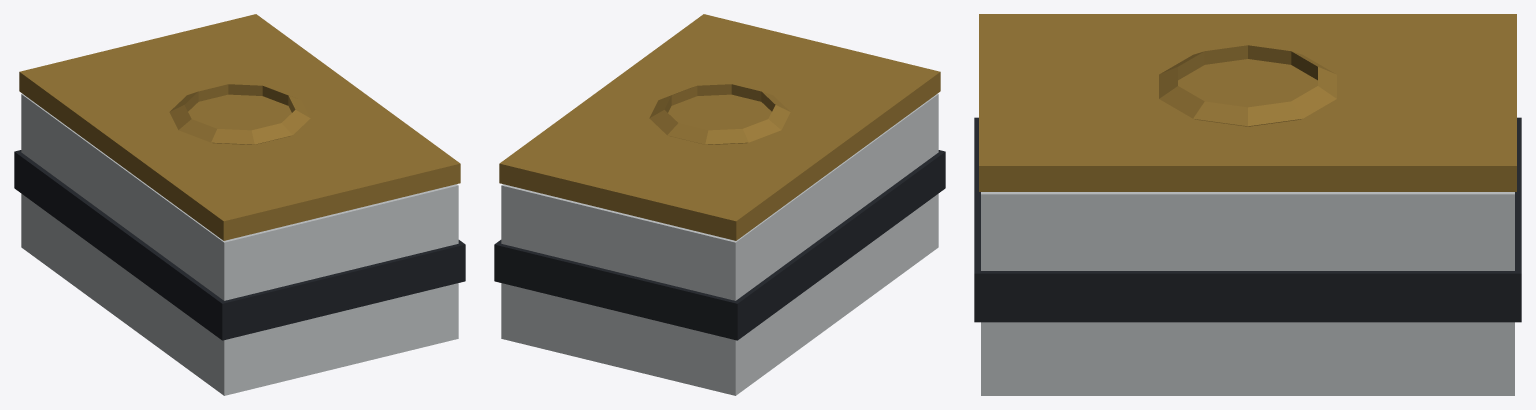
Rendered from sabacc-deck.lod.glb.
3 renders of one model, left to right at view 1: azimuth 30°, elevation 25°; view 2: azimuth 150°, elevation 25°; view 3: azimuth 270°, elevation 25°, orthographic. The views are drawn at different scales.
Visible parts, largest first — view 1: m; view 2: m; view 3: m.
Boxes of the visible parts, x1,y1,x2,y2 form: m: (14,14,465,395); m: (494,14,945,395); m: (974,14,1521,395).
Size of the model in its own units: 0.0405 by 0.0296 by 0.06.
